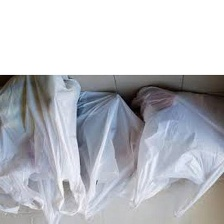plastic_bag: (33, 90, 147, 224), (123, 82, 223, 221), (0, 74, 88, 220)
